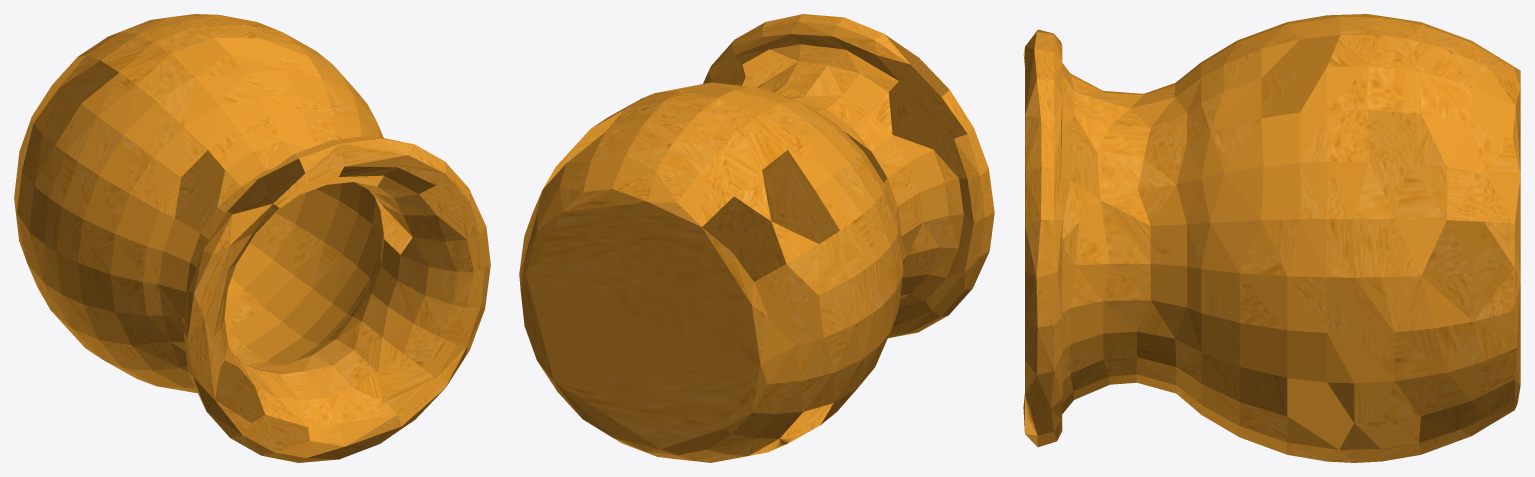
File: model_align.obj
3 renders of one model, left to right at view 1: azimuth 30°, elevation 25°; view 2: azimuth 150°, elevation 25°; view 3: azimuth 270°, elevation 25°, orthographic. The views are drawn at different scales.
Size of the model in its own units: 0.162 by 0.162 by 0.1786.
1 material, 1 textured.
